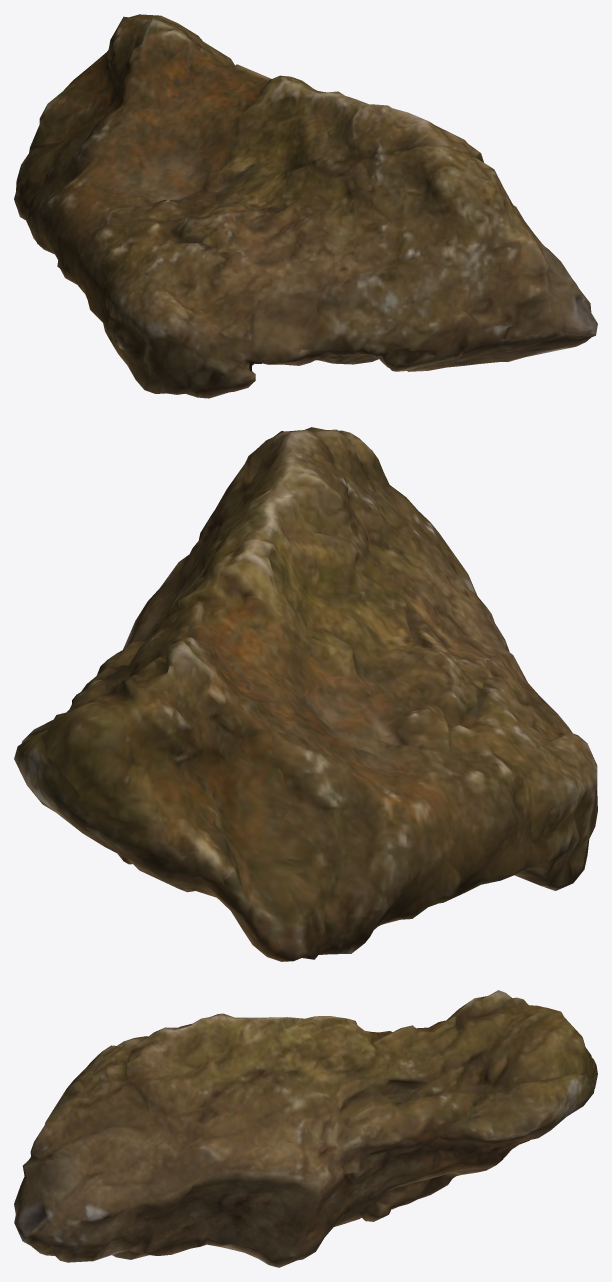
The model's file is Scan_MossRock_A.fbx.
The picture shows the model from 3 angles, top to bottom: view 1: azimuth 30°, elevation 25°; view 2: azimuth 150°, elevation 25°; view 3: azimuth 270°, elevation 25°; orthographic projection. The views are drawn at different scales.
Visible parts, largest first — view 1: Scan_MossRock_A_LOD0; view 2: Scan_MossRock_A_LOD0; view 3: Scan_MossRock_A_LOD0.
Part boxes in pixels (left/top/right/bottom): Scan_MossRock_A_LOD0: left=14, top=14, right=597, bottom=398; Scan_MossRock_A_LOD0: left=14, top=427, right=597, bottom=961; Scan_MossRock_A_LOD0: left=14, top=990, right=597, bottom=1267.
Size of what is drawn, in the model's own units: 2.24 by 1.47 by 3.37.
